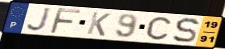9: (115, 13, 139, 39)
C: (145, 16, 173, 41)
F: (49, 7, 83, 35)
J: (25, 7, 53, 33)
K: (85, 11, 113, 38)
S: (171, 17, 201, 44)
